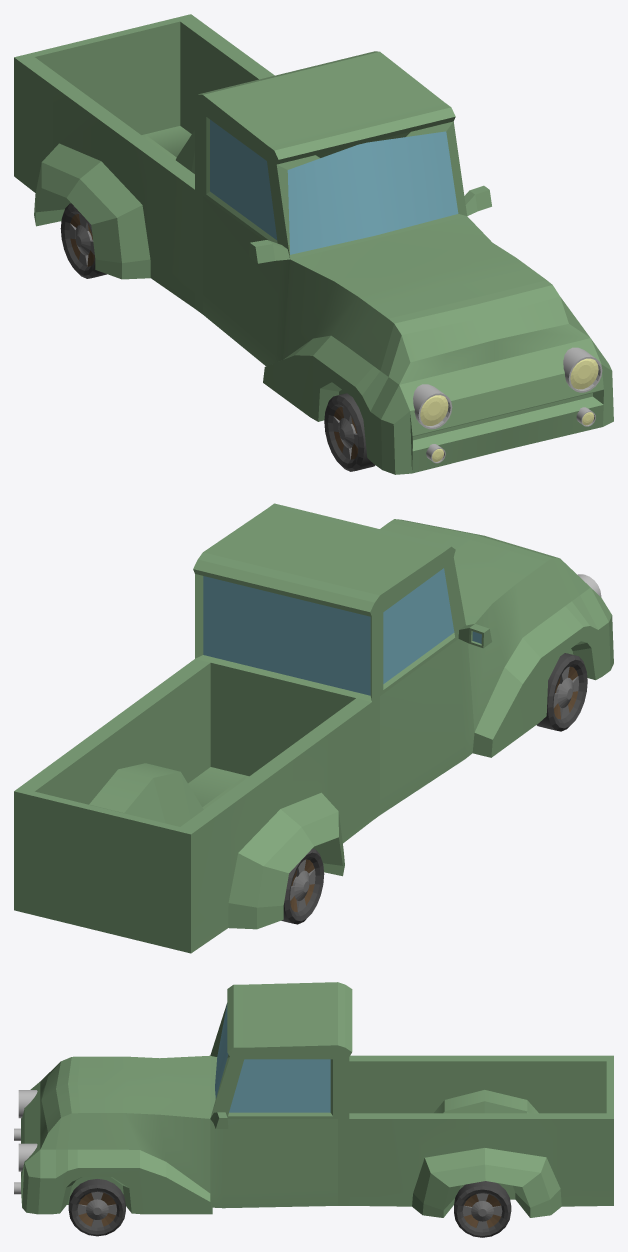
Rendered from Obstacle_Car3x1.fbx.
3 renders of one model, top to bottom at view 1: azimuth 30°, elevation 25°; view 2: azimuth 150°, elevation 25°; view 3: azimuth 270°, elevation 25°, orthographic. The views are drawn at different scales.
Parts seen in each view (by area): view 1: ObstacleCar_3Space, Tire.001, Tire.002; view 2: ObstacleCar_3Space, Tire.001, Tire.002; view 3: ObstacleCar_3Space, Tire.004, Tire.000.
Boxes of the visible parts, <box> form: ObstacleCar_3Space: <box>14,14,613,474</box>; Tire.001: <box>324,393,375,471</box>; Tire.002: <box>60,203,106,278</box>; ObstacleCar_3Space: <box>14,503,613,953</box>; Tire.001: <box>537,653,587,731</box>; Tire.002: <box>281,848,324,924</box>; ObstacleCar_3Space: <box>14,982,613,1217</box>; Tire.004: <box>68,1179,125,1236</box>; Tire.000: <box>454,1181,511,1237</box>.
Size of the model in its own units: 99.99 by 95.84 by 287.
